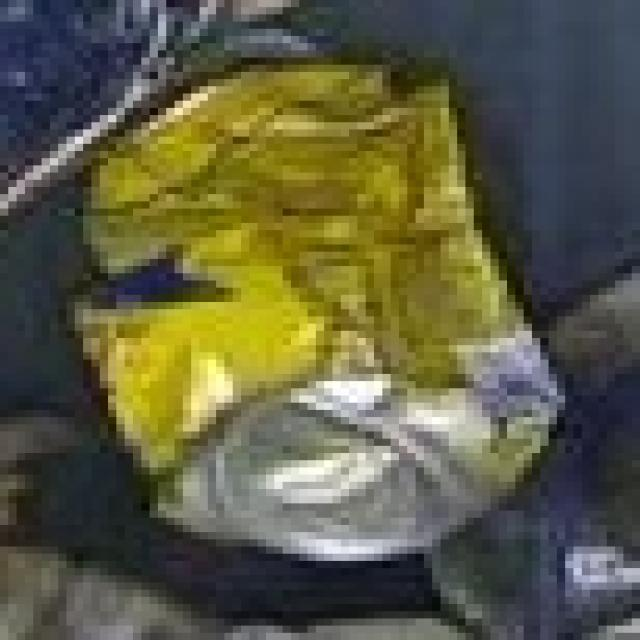litter: (33, 3, 624, 616)
